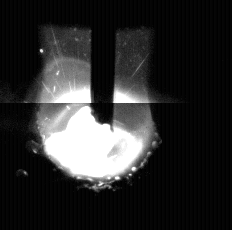arame: (92, 0, 116, 132)
poca: (43, 0, 144, 230)
